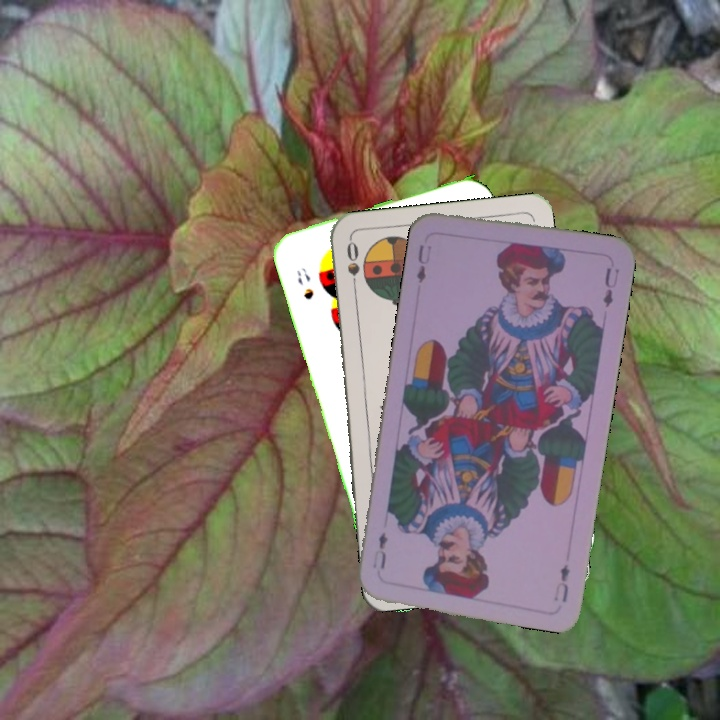EU: (549, 560, 572, 605), (412, 240, 434, 286)
S8: (292, 263, 316, 302)
SO: (342, 237, 362, 296)
